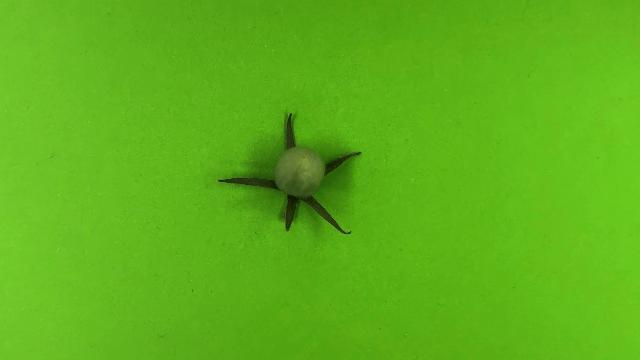Fruit Maturation: (273, 145, 327, 199)
